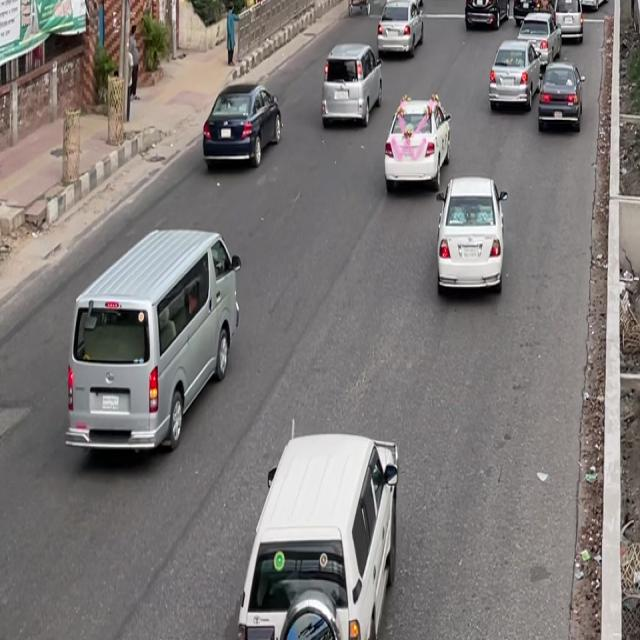car: (53, 214, 244, 473), (232, 410, 406, 638), (429, 160, 515, 304), (197, 71, 286, 181), (380, 84, 455, 204), (316, 32, 386, 133), (533, 55, 587, 141), (486, 36, 534, 119), (372, 0, 426, 62), (523, 6, 558, 69), (553, 0, 586, 47), (462, 0, 501, 38), (512, 0, 548, 19), (569, 0, 610, 16), (431, 0, 467, 1)
